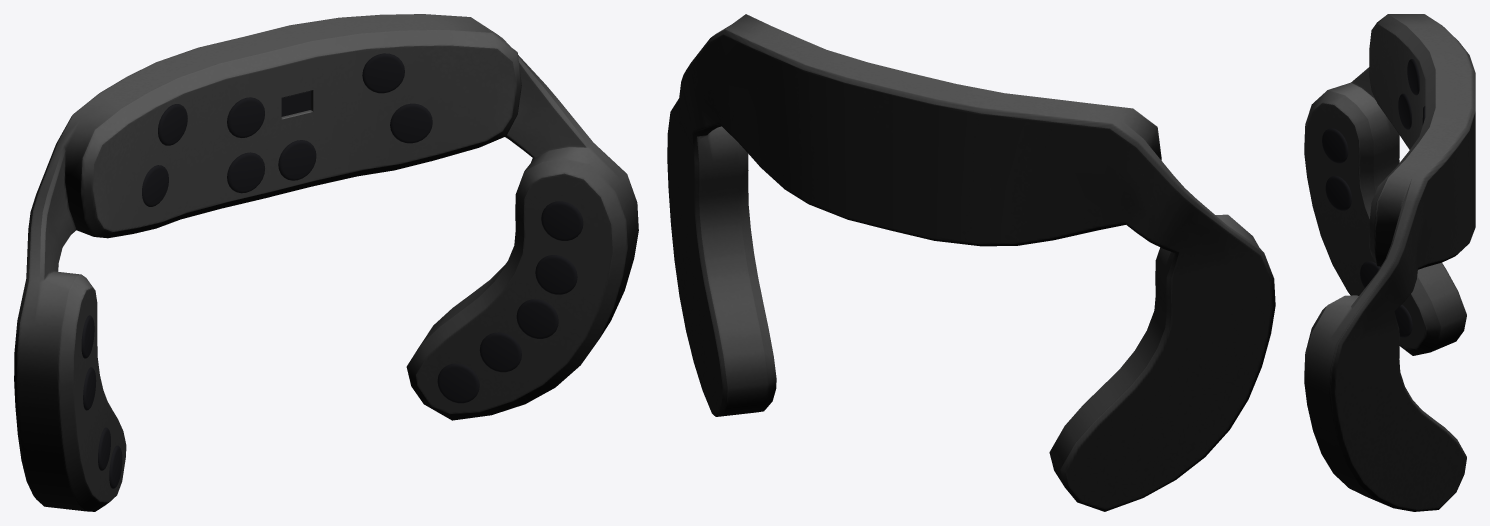
The model's file is EmteqMask.FBX.
3 renders of one model, left to right at view 1: azimuth 30°, elevation 25°; view 2: azimuth 150°, elevation 25°; view 3: azimuth 270°, elevation 25°, orthographic. The views are drawn at different scales.
Parts seen in each view (by area): view 1: EmteqMaskProGo, RightFrontalis, RightZygomaticus, RightOrbicularis, Corrugator, LeftFrontalis, Ref2, Ref1, LeftZygomaticus, LeftOrbicularis; view 2: EmteqMaskProGo; view 3: EmteqMaskProGo, LeftOrbicularis, LeftZygomaticus, LeftFrontalis.
Boxes of the visible parts, x1=… form: EmteqMaskProGo: x1=14, y1=14, x2=638, y2=511; RightFrontalis: x1=362, y1=53, x2=432, y2=143; RightZygomaticus: x1=437, y1=332, x2=521, y2=403; RightOrbicularis: x1=535, y1=201, x2=583, y2=294; Corrugator: x1=227, y1=140, x2=316, y2=193; LeftFrontalis: x1=142, y1=104, x2=187, y2=206; Ref2: x1=516, y1=299, x2=558, y2=338; Ref1: x1=227, y1=97, x2=264, y2=137; LeftZygomaticus: x1=98, y1=427, x2=122, y2=488; LeftOrbicularis: x1=81, y1=315, x2=96, y2=410; EmteqMaskProGo: x1=667, y1=14, x2=1275, y2=511; EmteqMaskProGo: x1=1304, y1=14, x2=1475, y2=511; LeftOrbicularis: x1=1322, y1=128, x2=1351, y2=210; LeftZygomaticus: x1=1360, y1=261, x2=1412, y2=337; LeftFrontalis: x1=1398, y1=59, x2=1419, y2=129.
Size of the model in its own units: 0.192 by 0.0542 by 0.1182.
